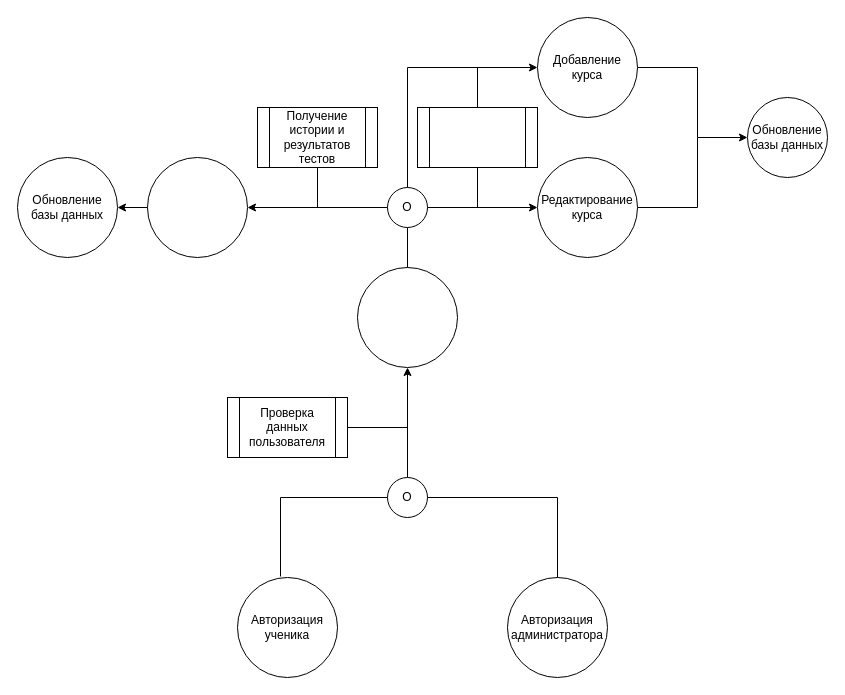
Image size: 845x695. Some labels were removed from this diagram. Each missing label, with the box of its shape:
Поиск курса: (356, 266, 458, 368)
Проверка прав администратора: (416, 106, 538, 168)
Прохождение обучения: (146, 156, 248, 258)
